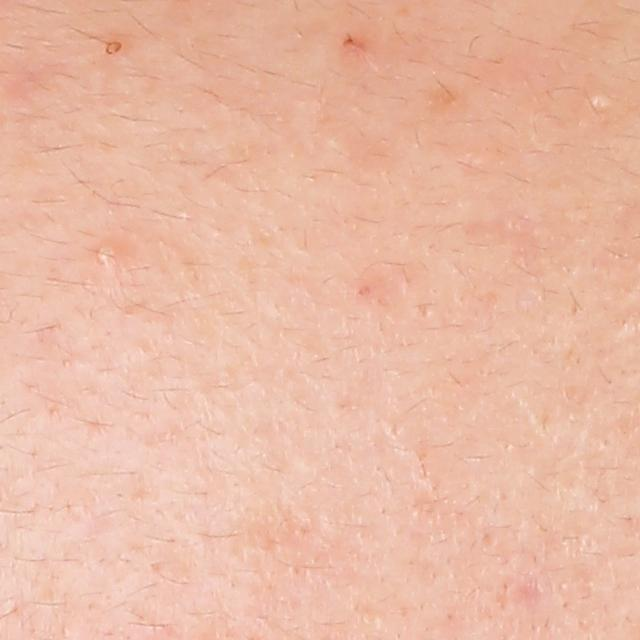comedo: (100, 37, 124, 57)
